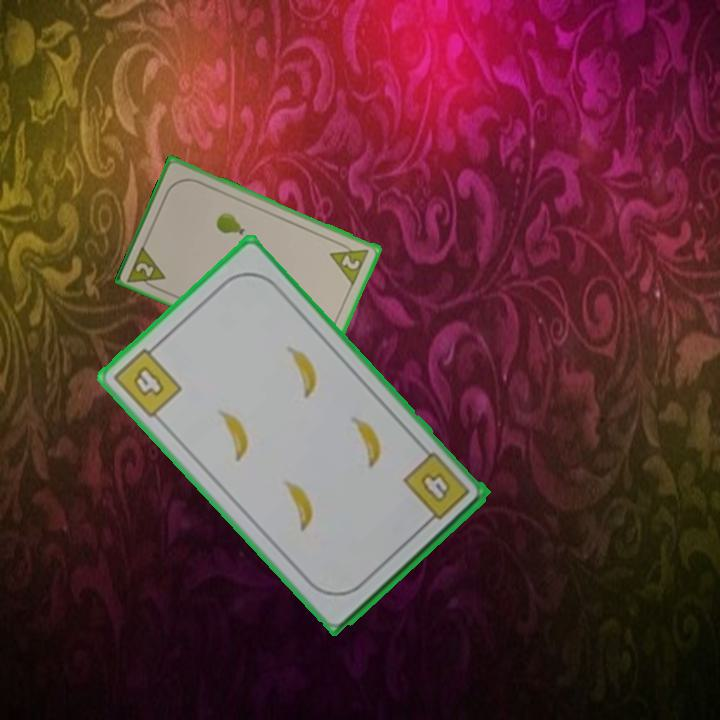2p: (124, 241, 169, 294), (326, 237, 372, 287)
4b: (109, 339, 185, 421), (399, 448, 473, 529)
